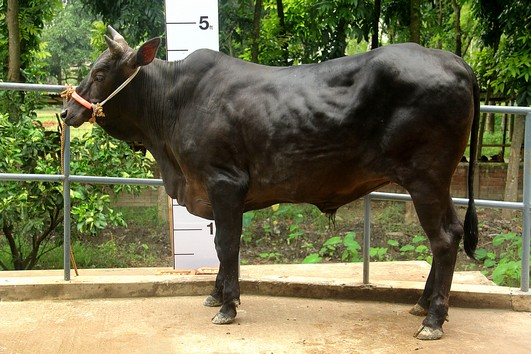cow: (57, 27, 492, 339)
